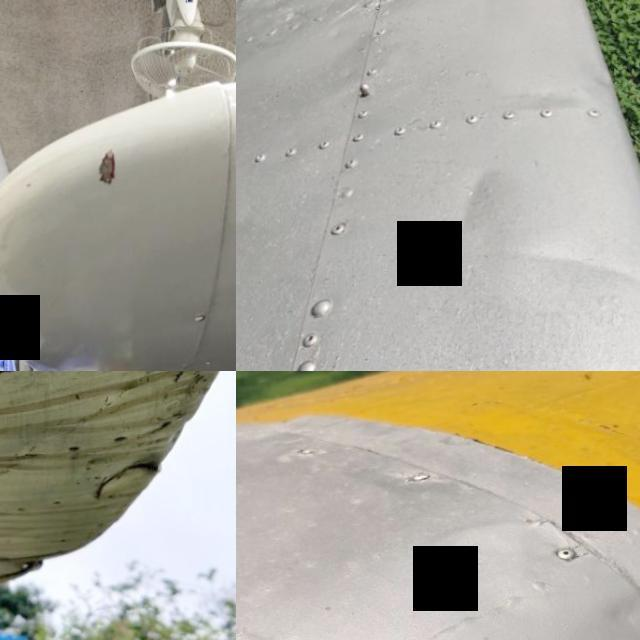Crack: (86, 124, 125, 212), (0, 371, 51, 410)
Dent: (494, 210, 640, 331), (429, 143, 532, 247)
